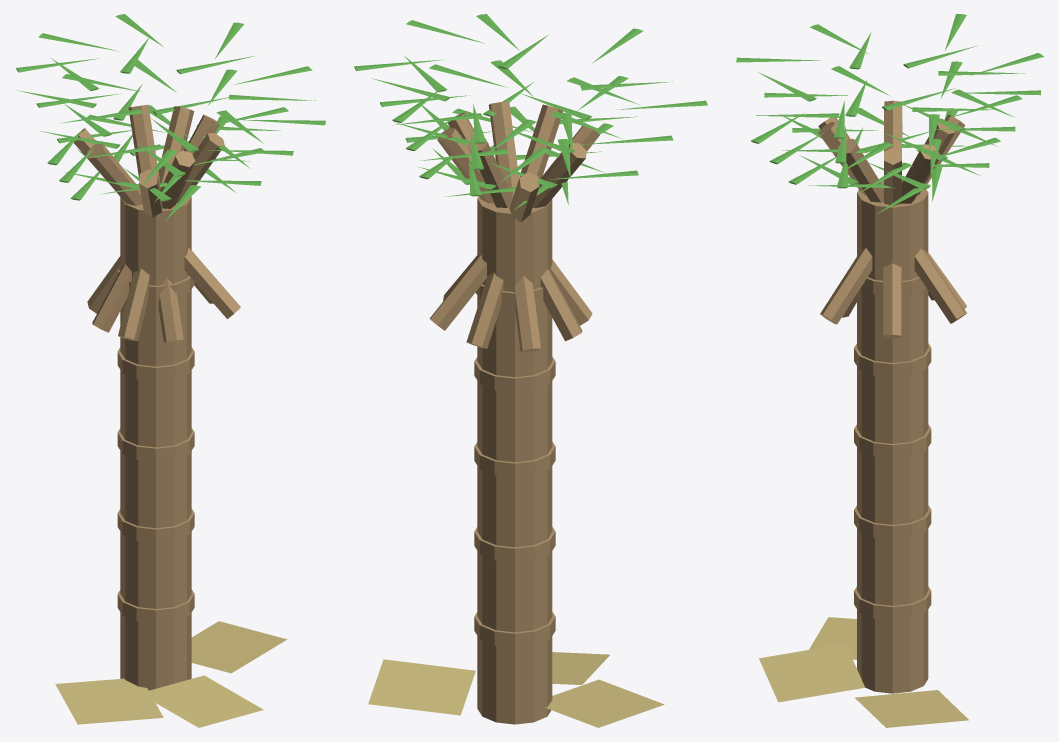
Rendered from palm_growing.glb.
3 renders of one model, left to right at view 1: azimuth 30°, elevation 25°; view 2: azimuth 150°, elevation 25°; view 3: azimuth 270°, elevation 25°, orthographic. The views are drawn at different scales.
Parts seen in each view (by area): view 1: PalmGrowing_trunk, PalmGrowing_debris_1, PalmGrowing_debris_3, PalmGrowing_debris_2, PalmGrowing_leaf_stem_4, PalmGrowing_leaf_stem_5, PalmGrowing_leaf_stem_3, PalmGrowing_leaf_stem_6, PalmGrowing_leaf_stem_2, PalmGrowing_leaf_stem_7, PalmGrowing_trunk_segment_1, PalmGrowing_trunk_segment_2 (+5 smaller); view 2: PalmGrowing_trunk, PalmGrowing_debris_2, PalmGrowing_debris_1, PalmGrowing_leaf_stem_2, PalmGrowing_leaf_stem_1, PalmGrowing_leaf_stem_8, PalmGrowing_leaf_stem_4, PalmGrowing_leaf_stem_3, PalmGrowing_debris_3, PalmGrowing_trunk_segment_4, PalmGrowing_trunk_segment_2, PalmGrowing_trunk_segment_1 (+4 smaller); view 3: PalmGrowing_trunk, PalmGrowing_debris_3, PalmGrowing_debris_2, PalmGrowing_leaf_stem_7, PalmGrowing_leaf_stem_6, PalmGrowing_leaf_stem_8, PalmGrowing_trunk_segment_1, PalmGrowing_trunk_segment_2, PalmGrowing_trunk_segment_3, PalmGrowing_trunk_segment_4, PalmGrowing_debris_1, PalmGrowing_leaf_stem_2 (+5 smaller).
Part boxes in pixels (x1,y1,x2,y2): PalmGrowing_trunk: [120, 183, 191, 690]; PalmGrowing_debris_1: [55, 678, 163, 724]; PalmGrowing_debris_3: [139, 675, 263, 727]; PalmGrowing_debris_2: [191, 621, 287, 673]; PalmGrowing_leaf_stem_4: [118, 106, 194, 340]; PalmGrowing_leaf_stem_5: [128, 104, 183, 342]; PalmGrowing_leaf_stem_3: [92, 114, 219, 332]; PalmGrowing_leaf_stem_6: [73, 128, 240, 318]; PalmGrowing_leaf_stem_2: [87, 133, 224, 313]; PalmGrowing_leaf_stem_7: [87, 143, 213, 303]; PalmGrowing_trunk_segment_1: [117, 589, 194, 623]; PalmGrowing_trunk_segment_2: [117, 509, 194, 542]; PalmGrowing_trunk: [477, 195, 552, 724]; PalmGrowing_debris_2: [368, 659, 475, 715]; PalmGrowing_debris_1: [545, 679, 664, 727]; PalmGrowing_leaf_stem_2: [488, 101, 540, 351]; PalmGrowing_leaf_stem_1: [466, 104, 563, 348]; PalmGrowing_leaf_stem_8: [430, 123, 599, 330]; PalmGrowing_leaf_stem_4: [437, 127, 592, 325]; PalmGrowing_leaf_stem_3: [448, 112, 582, 341]; PalmGrowing_debris_3: [552, 652, 609, 684]; PalmGrowing_trunk_segment_4: [474, 357, 555, 392]; PalmGrowing_trunk_segment_2: [474, 527, 555, 562]; PalmGrowing_trunk_segment_1: [474, 612, 555, 647]; PalmGrowing_trunk: [857, 180, 928, 693]; PalmGrowing_debris_3: [759, 643, 864, 702]; PalmGrowing_debris_2: [855, 690, 968, 727]; PalmGrowing_leaf_stem_7: [883, 100, 902, 338]; PalmGrowing_leaf_stem_6: [820, 115, 965, 324]; PalmGrowing_leaf_stem_8: [818, 118, 966, 323]; PalmGrowing_trunk_segment_1: [854, 586, 931, 620]; PalmGrowing_trunk_segment_2: [854, 505, 931, 539]; PalmGrowing_trunk_segment_3: [854, 424, 931, 458]; PalmGrowing_trunk_segment_4: [854, 343, 931, 377]; PalmGrowing_debris_1: [809, 617, 856, 659]; PalmGrowing_leaf_stem_2: [838, 138, 934, 300].
Bounding box in the file's own units: 1.09 × 2.27 × 1.03.
